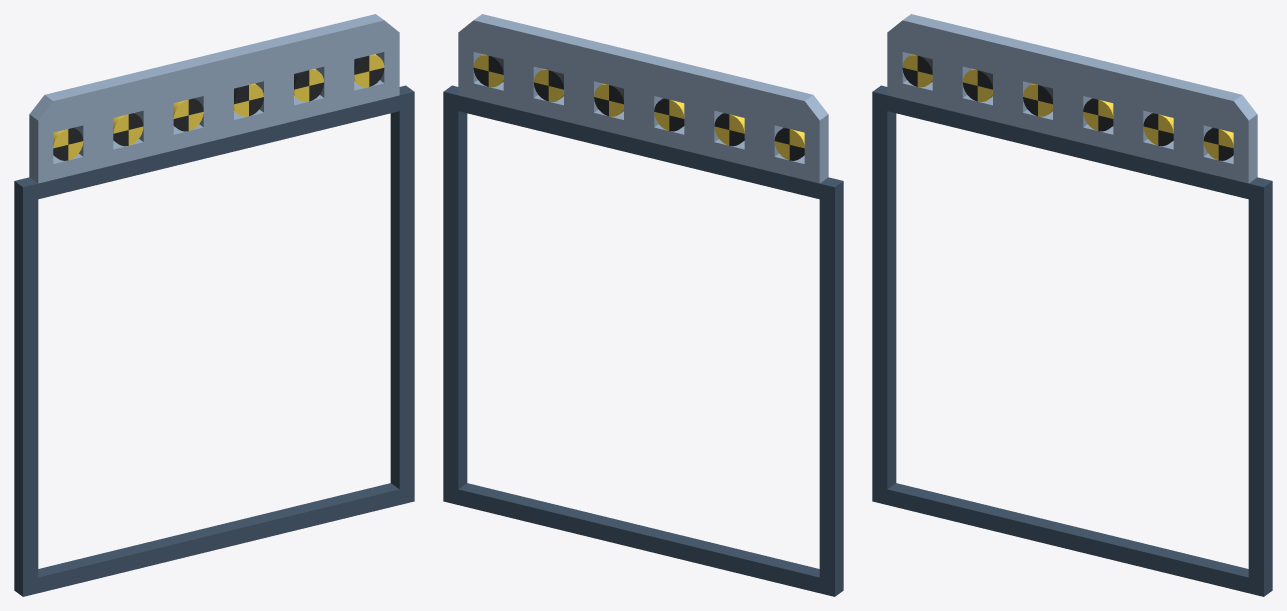
The model's file is DoorOpened.glb.
The picture shows the model from 3 angles, left to right: view 1: azimuth 30°, elevation 25°; view 2: azimuth 150°, elevation 25°; view 3: azimuth 330°, elevation 25°; orthographic projection.
Visible parts, largest first — view 1: generated(Clone); view 2: generated(Clone); view 3: generated(Clone).
Part boxes in pixels (<box>): generated(Clone): <box>14,14,414,596</box>; generated(Clone): <box>443,14,843,596</box>; generated(Clone): <box>872,14,1272,596</box>.
Size of the model in its own units: 26 by 31 by 1.
